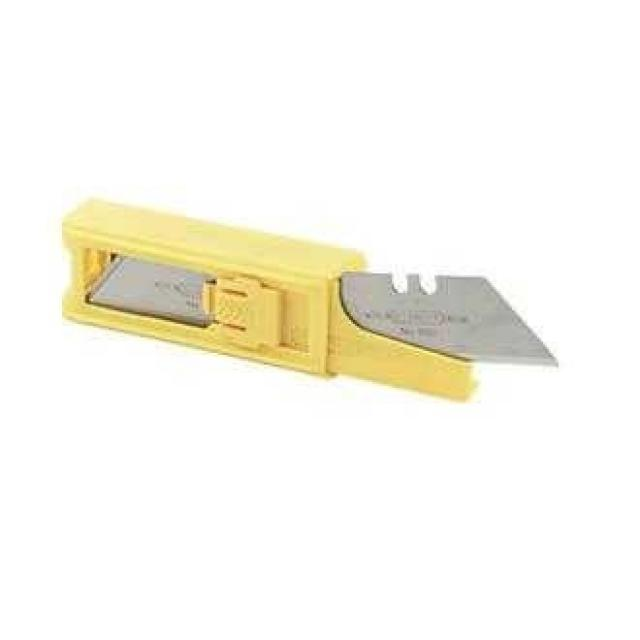Knife: (0, 179, 581, 398)
